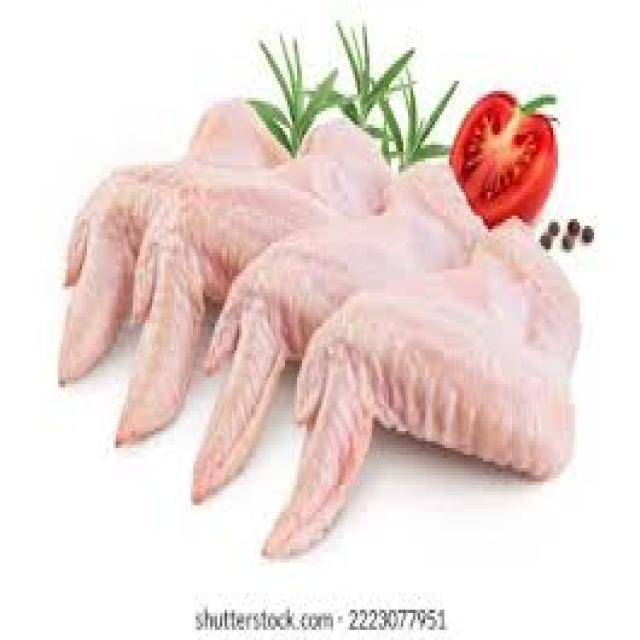wing: (288, 236, 592, 568), (211, 157, 464, 484), (138, 107, 358, 451), (43, 91, 277, 379)
